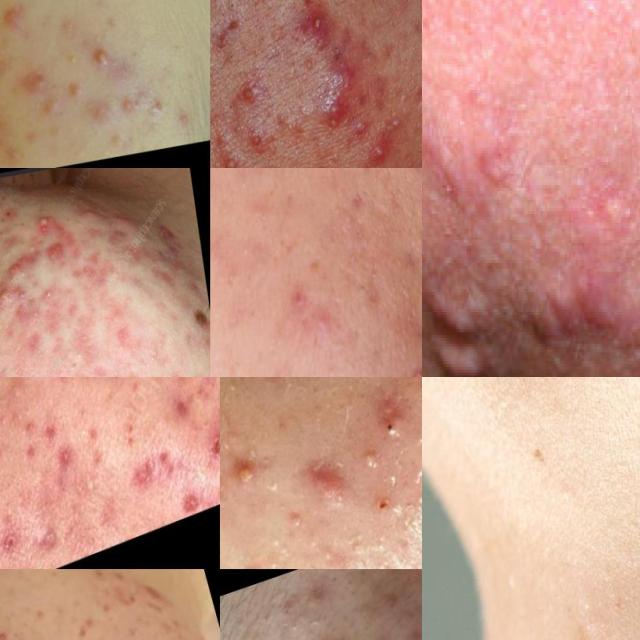acne_scars: (117, 440, 178, 501), (183, 380, 220, 475), (135, 574, 173, 625), (105, 569, 139, 612), (67, 607, 103, 640), (393, 351, 422, 377), (0, 617, 20, 640)
comedone: (277, 498, 322, 551), (307, 531, 357, 569), (224, 549, 280, 569), (61, 44, 85, 79), (116, 90, 140, 116), (171, 103, 192, 131), (149, 89, 164, 118), (16, 238, 28, 250), (0, 311, 7, 331), (191, 370, 210, 377), (17, 220, 28, 232), (0, 191, 9, 204), (0, 224, 7, 238), (0, 214, 8, 226)
keloid: (105, 201, 140, 232), (66, 202, 106, 224)
papule: (219, 377, 317, 412), (7, 58, 53, 100), (167, 477, 208, 521), (1, 0, 38, 36), (374, 584, 404, 624), (322, 53, 354, 88), (306, 581, 328, 609), (405, 626, 422, 640)
pustule: (220, 431, 276, 513), (357, 378, 418, 449), (342, 424, 394, 488), (80, 36, 112, 80), (236, 71, 265, 101), (243, 125, 266, 154), (303, 6, 326, 34), (31, 211, 56, 236), (370, 137, 393, 161), (226, 139, 240, 168), (27, 306, 45, 324), (40, 285, 54, 302)
sebo-crystan-conglo: (282, 428, 358, 534), (308, 85, 347, 132), (4, 250, 35, 281), (0, 283, 32, 309), (382, 106, 407, 137), (45, 239, 66, 261)
